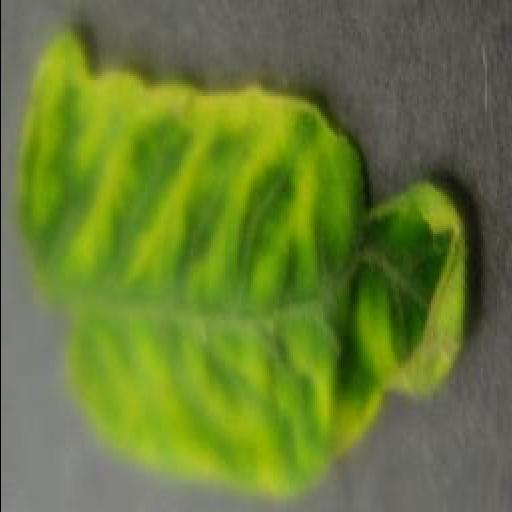disease_tomato: (9, 20, 467, 496)
